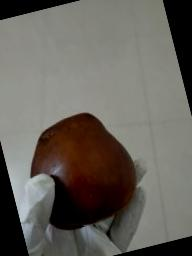Apple Rotten: (14, 100, 150, 239)
